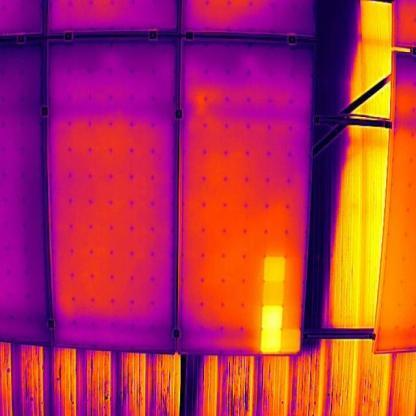anomaly: (256, 251, 304, 359)
